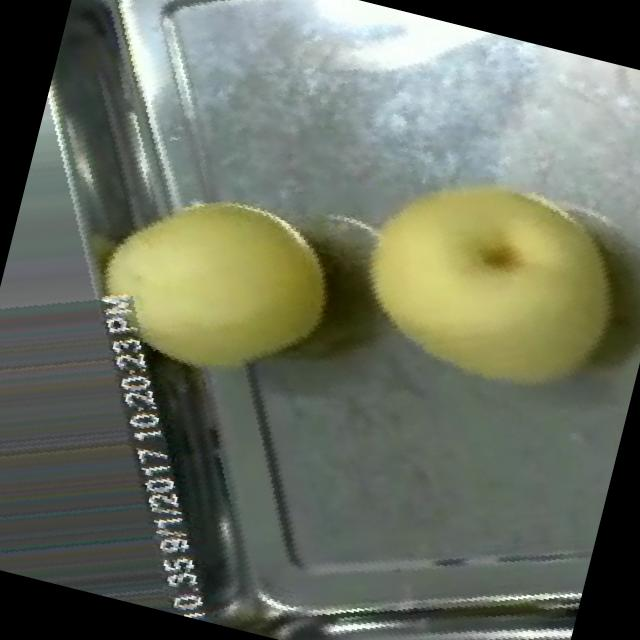Fruit: (296, 106, 640, 463), (45, 128, 388, 440)
